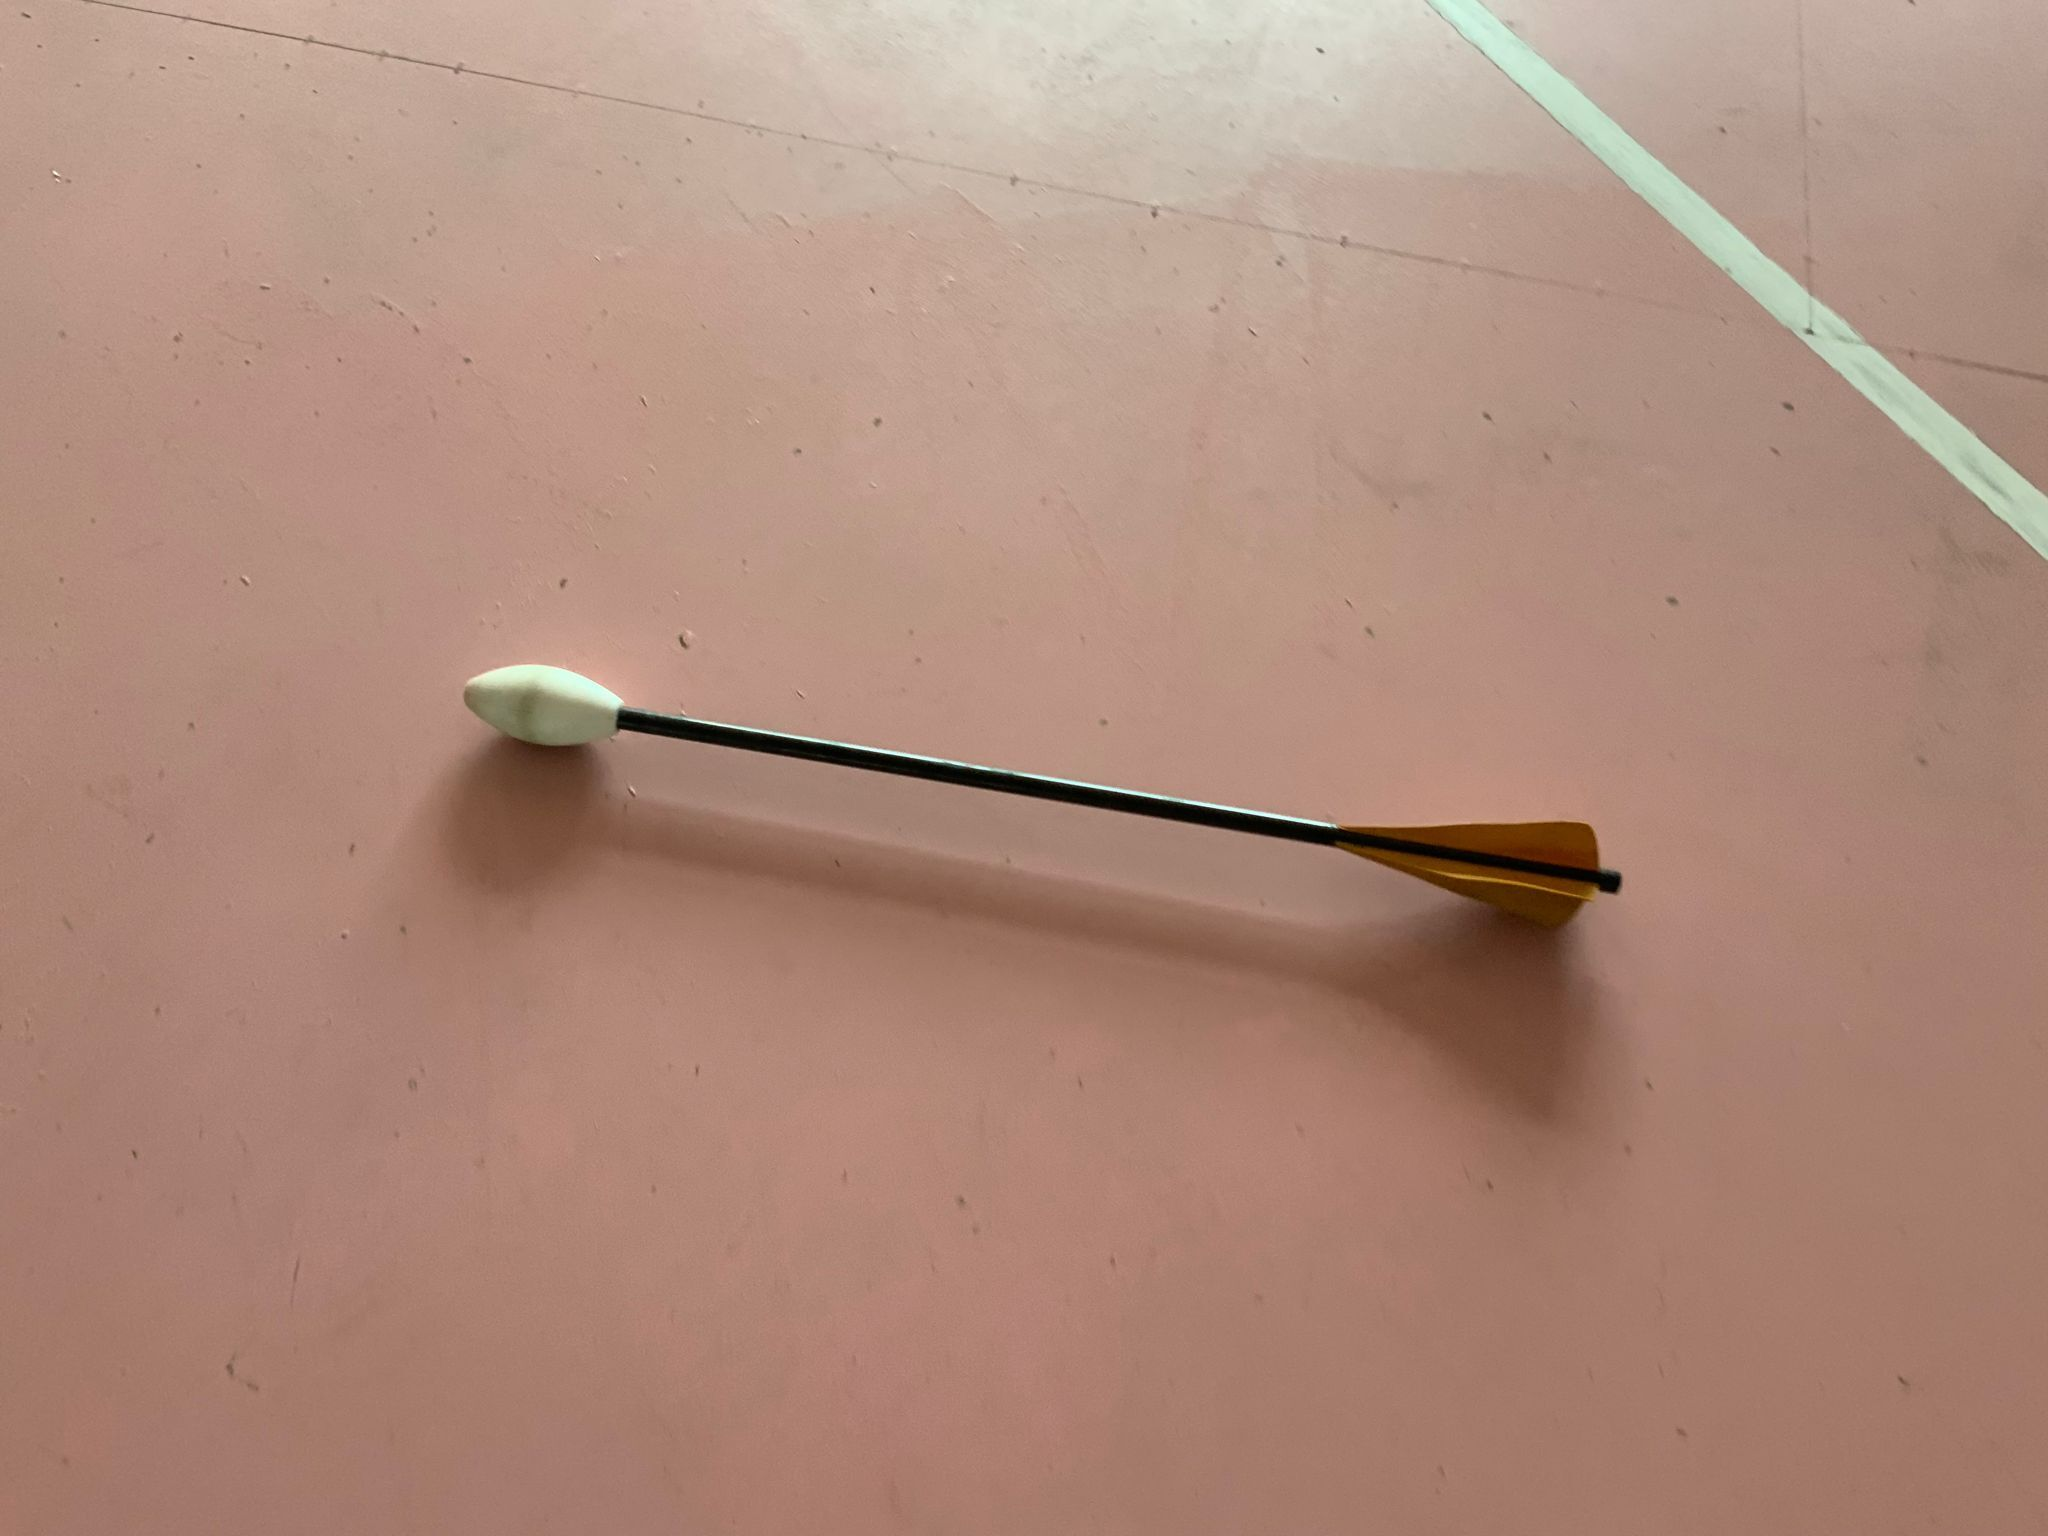arrow: (464, 665, 1629, 933)
arrowFront: (461, 665, 626, 749)
